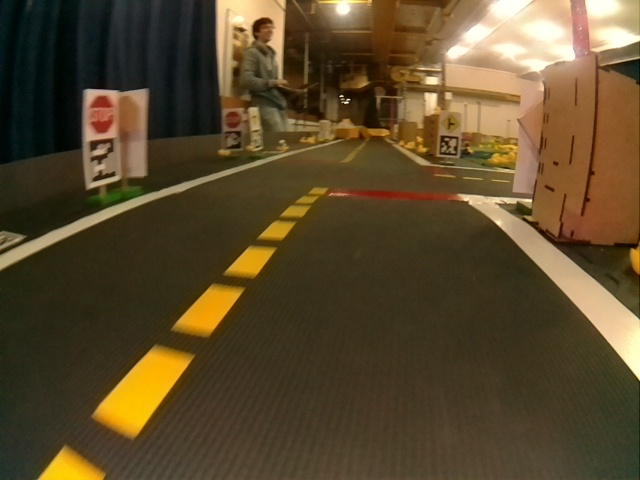Duckie: (629, 242, 639, 275), (416, 144, 426, 154), (487, 154, 497, 164)
Intersection sign: (441, 114, 460, 131)
QR code: (87, 141, 118, 182), (439, 138, 459, 155), (228, 131, 240, 149)
Stop sign: (87, 94, 113, 134), (226, 111, 241, 130)
